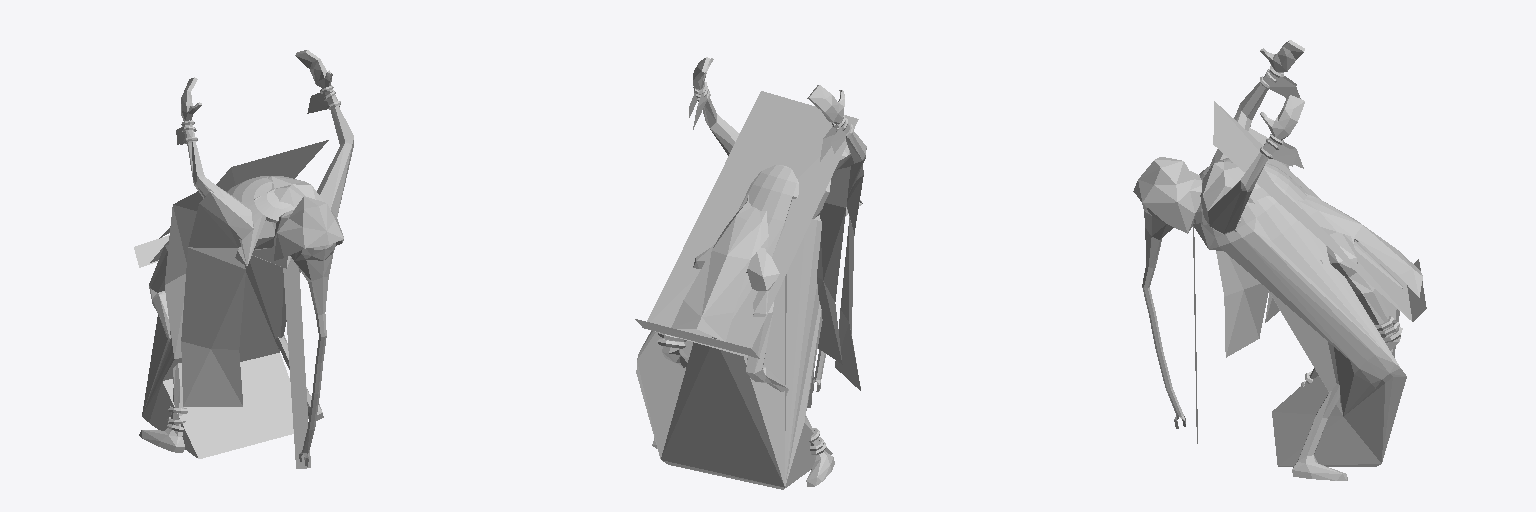
File: Stalker.obj
3 renders of one model, left to right at view 1: azimuth 30°, elevation 25°; view 2: azimuth 150°, elevation 25°; view 3: azimuth 270°, elevation 25°, orthographic.
Visible parts, largest first — view 1: Legs_Low, UCX_convex_hull; view 2: UCX_convex_hull, Legs_Low; view 3: UCX_convex_hull, Legs_Low.
Part boxes in pixels (x1,y1,x2,y2): Legs_Low: (139, 50, 353, 466); UCX_convex_hull: (134, 140, 328, 468); UCX_convex_hull: (635, 91, 862, 489); Legs_Low: (652, 57, 866, 486); UCX_convex_hull: (1193, 101, 1426, 466); Legs_Low: (1133, 40, 1422, 480).
Bounding box in the file's own units: 85.81 × 184 × 130.